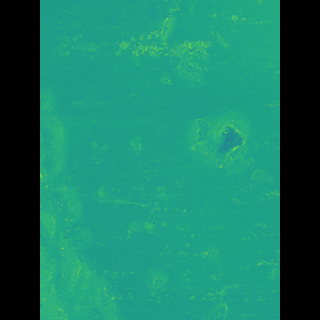Loch: (67, 85, 133, 319), (79, 8, 199, 89), (181, 104, 228, 171)
